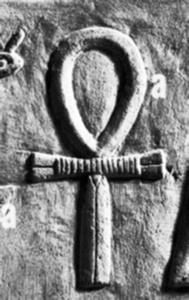Ankh: (24, 23, 170, 290)
